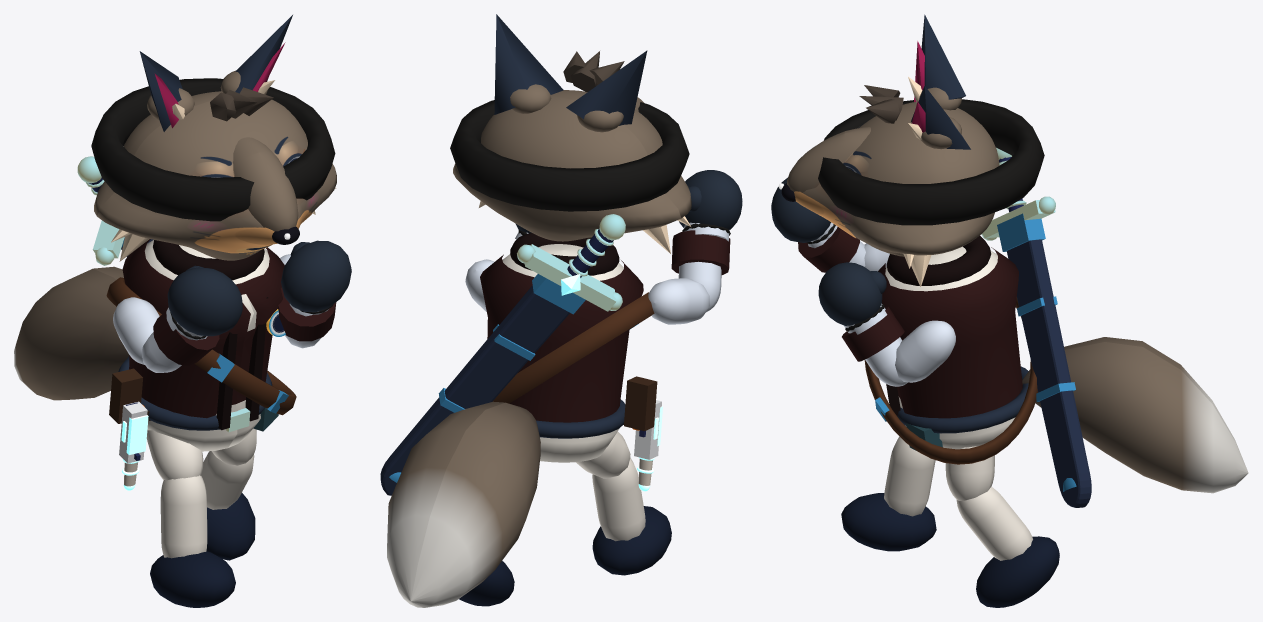
Rendered from barnacle_alt1.glb.
The picture shows the model from 3 angles, left to right: view 1: azimuth 30°, elevation 25°; view 2: azimuth 150°, elevation 25°; view 3: azimuth 270°, elevation 25°; orthographic projection. The views are drawn at different scales.
Parts seen in each view (by area): view 1: BARNACLE ALT 1, object 24, object 28, object 2, object 6, object 3, object 10, object 9, object 4; view 2: BARNACLE ALT 1, object 6, object 3, object 24, object 9; view 3: BARNACLE ALT 1, object 28, object 24, object 3, object 6, object 2.
Part boxes in pixels (<box>): BARNACLE ALT 1: <box>14,70,336,607</box>; object 24: <box>167,267,242,336</box>; object 28: <box>281,240,351,312</box>; object 2: <box>190,136,316,254</box>; object 6: <box>235,15,292,93</box>; object 3: <box>139,51,182,131</box>; object 10: <box>126,415,148,454</box>; object 9: <box>119,401,147,463</box>; object 4: <box>154,73,178,128</box>; BARNACLE ALT 1: <box>380,51,730,607</box>; object 6: <box>494,14,563,114</box>; object 3: <box>566,50,647,125</box>; object 24: <box>679,170,742,229</box>; object 9: <box>634,400,661,459</box>; BARNACLE ALT 1: <box>778,85,1248,607</box>; object 28: <box>818,262,882,325</box>; object 24: <box>771,177,830,242</box>; object 3: <box>921,14,965,99</box>; object 6: <box>911,86,970,149</box>; object 2: <box>794,122,871,238</box>.
Bounding box in the file's own units: 1.39 × 3.26 × 2.65.
Materials: 89 (2 with a texture image).
